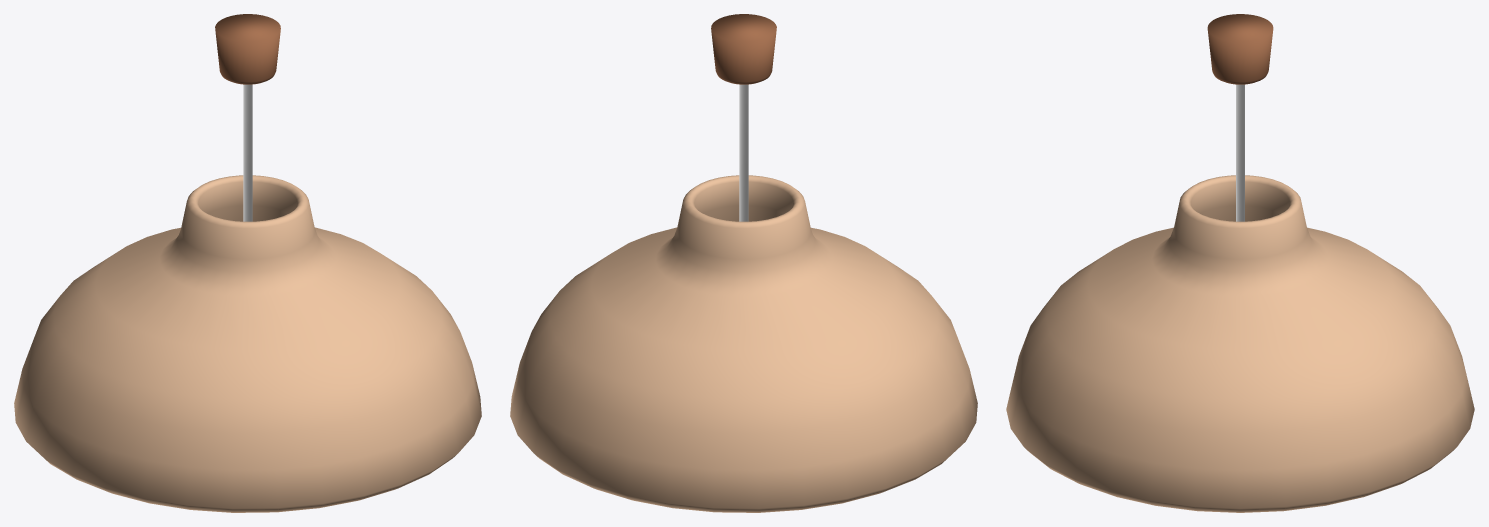
File: Lampe.fbx
3 views of the same model, side by side, from view 1: azimuth 30°, elevation 25°; view 2: azimuth 150°, elevation 25°; view 3: azimuth 270°, elevation 25° (orthographic).
Visible parts, largest first — view 1: Lampe; view 2: Lampe; view 3: Lampe.
Boxes of the visible parts, bbox=[...] form: Lampe: bbox=[14, 14, 481, 512]; Lampe: bbox=[510, 14, 977, 512]; Lampe: bbox=[1006, 14, 1474, 512].
Bounding box in the file's own units: 540 × 521 × 540.
